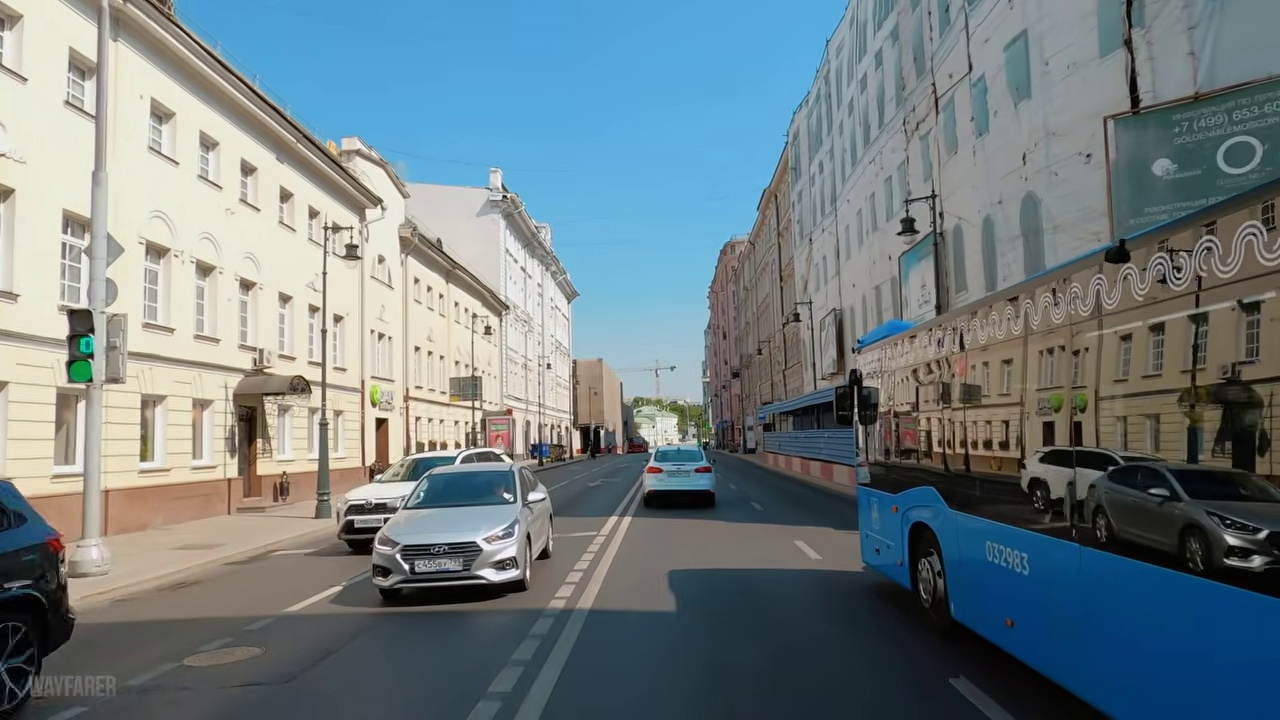apagada: (890, 216, 924, 245), (346, 245, 359, 274)
